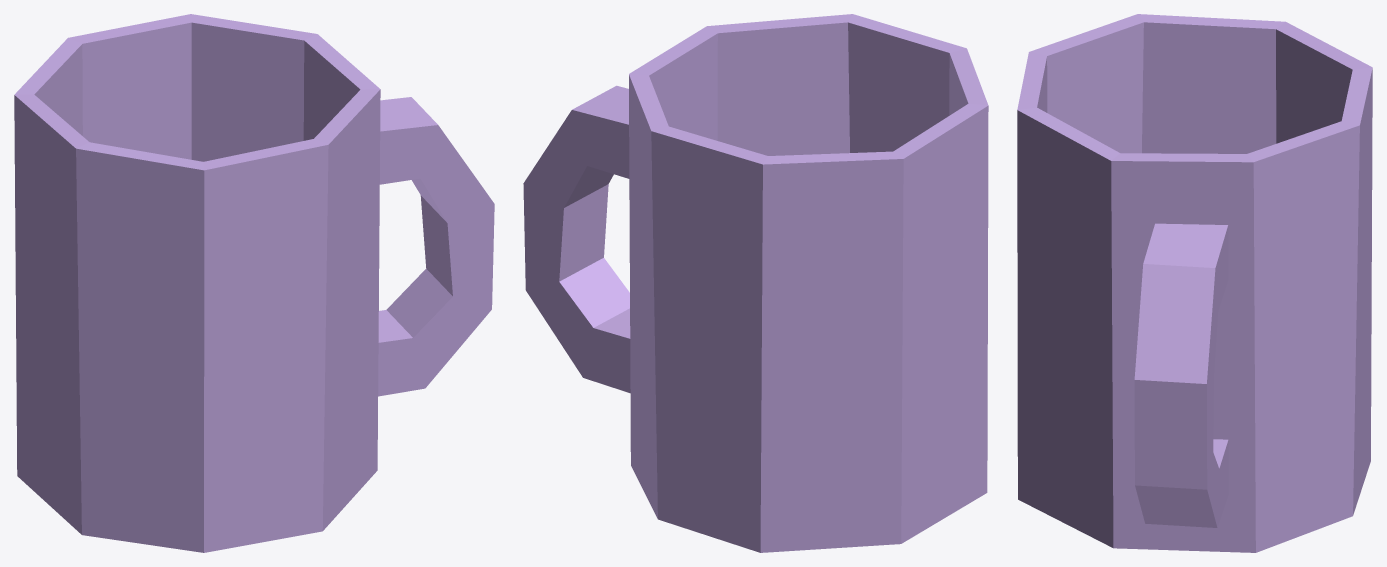
File: Cup_2.fbx
The picture shows the model from 3 angles, left to right: view 1: azimuth 30°, elevation 25°; view 2: azimuth 150°, elevation 25°; view 3: azimuth 270°, elevation 25°; orthographic projection.
Parts seen in each view (by area): view 1: Cup_2; view 2: Cup_2; view 3: Cup_2.
Boxes of the visible parts, x1,y1,x2,y2 form: Cup_2: (14,14,494,552); Cup_2: (523,14,988,552); Cup_2: (1017,14,1372,552).
Bounding box in the file's own units: 19.2 × 13.64 × 16.92.
